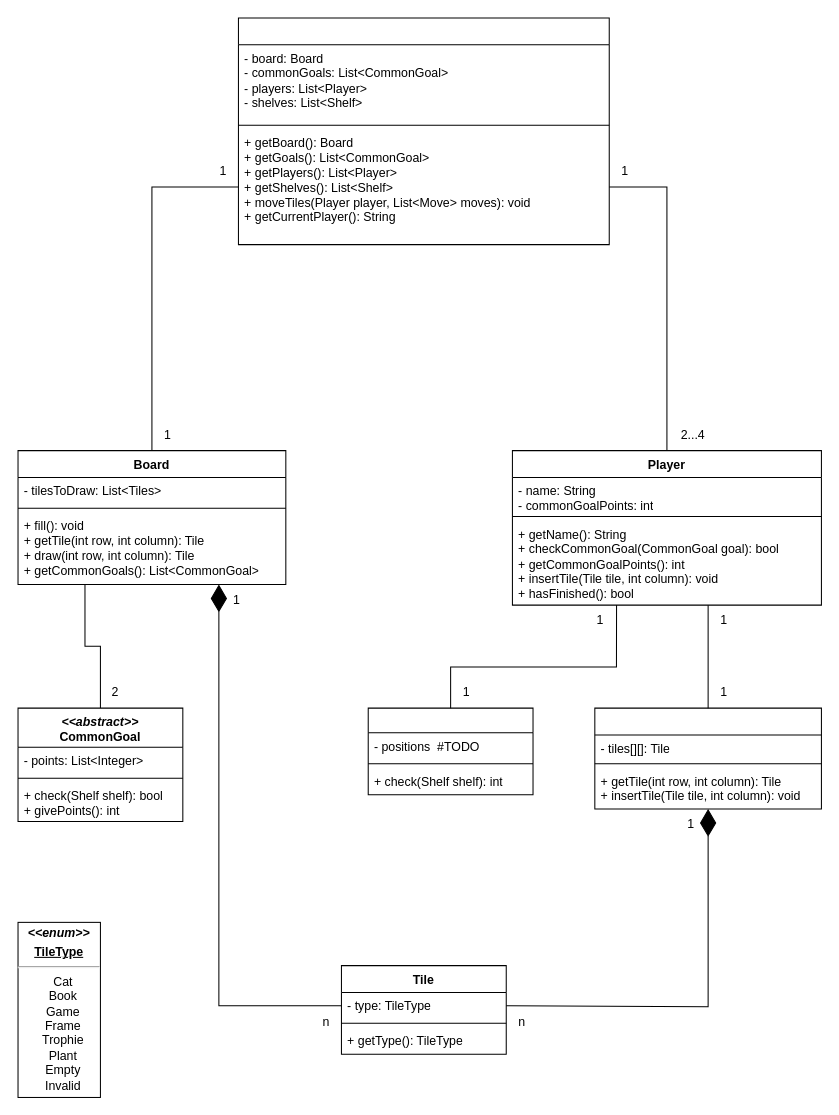
This 839x1115 diagram has some shape labels left out. The shapes that lost their labels are listed below. From the top down, each one's box as (x1, y1, x2, y2) in pixels, then its label:
(237, 17, 609, 245): Controller
(367, 707, 533, 795): PlayerGoal
(594, 707, 821, 809): Shelf
